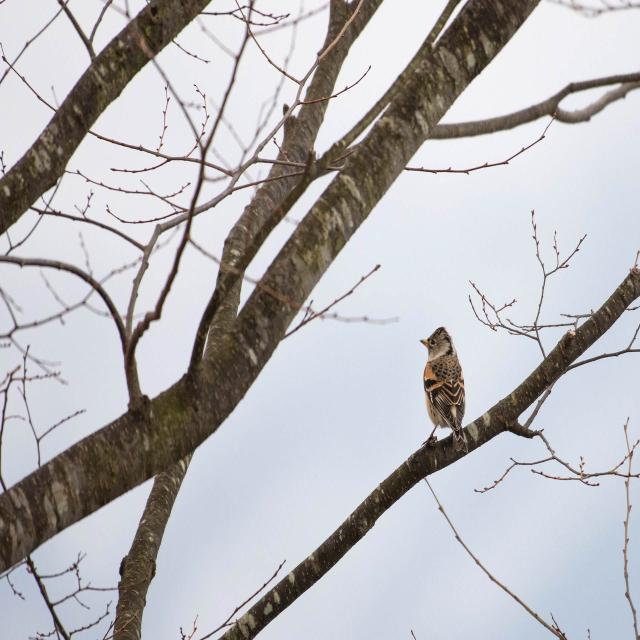bird: (418, 329, 468, 439)
